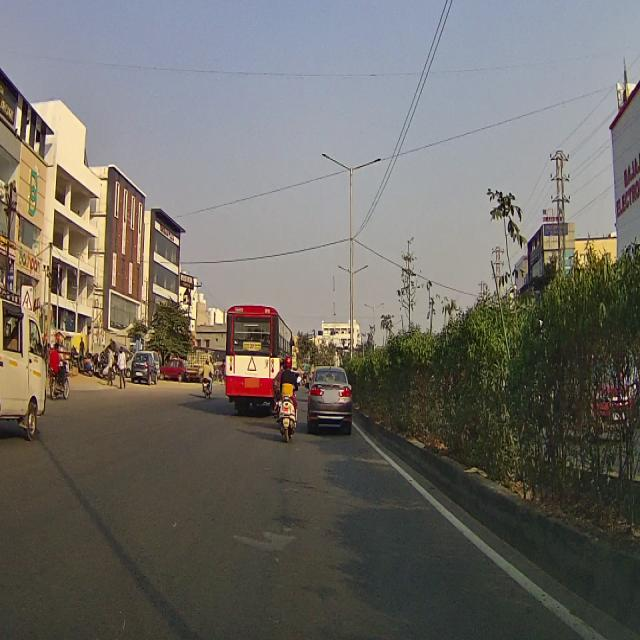bus ahead at: (224, 302, 282, 405)
car ahead at: (0, 297, 50, 441), (309, 365, 353, 434)
